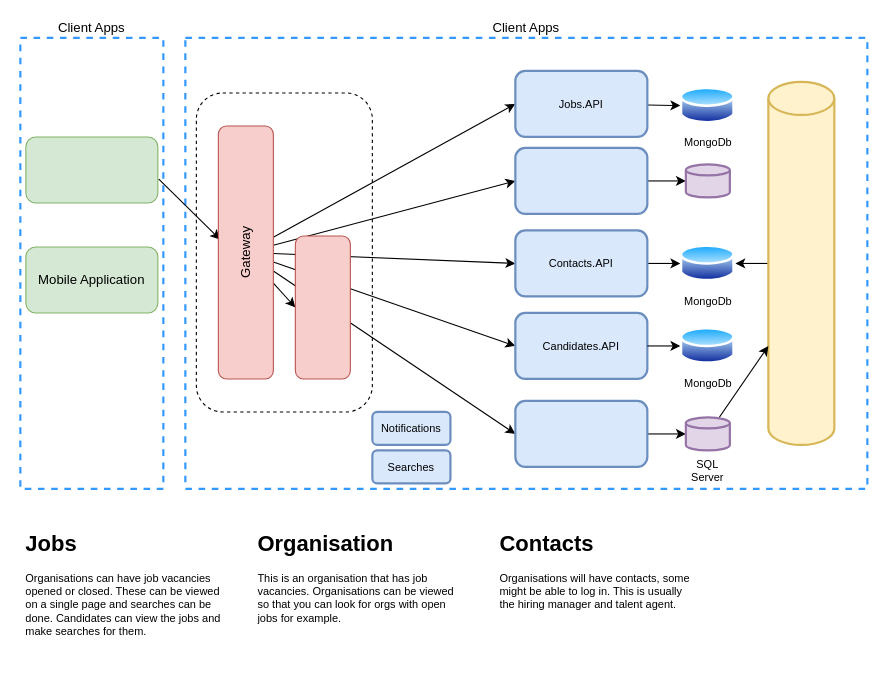
This 887x678 diagram has some shape labels left out. The box of each missing label's shape, as (x1, y1, x2, y2) in pixels:
Aggregator: (294, 235, 350, 379)
API Gateways / BFF: (195, 92, 372, 412)
Interviews.API: (514, 399, 648, 468)
Message Bus: (767, 80, 835, 446)
Organisations.API: (514, 146, 648, 215)
Postgres: (684, 163, 730, 198)
Web Application ASP.NET Core: (25, 136, 158, 203)
